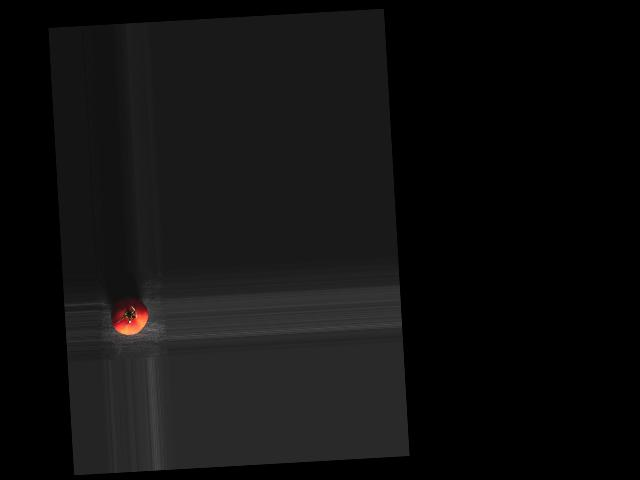tomato: (110, 296, 149, 335)
